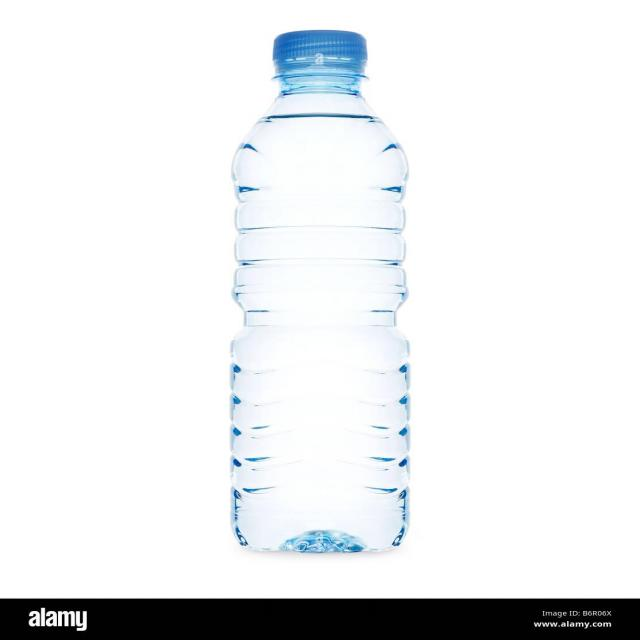bottle: (204, 25, 438, 590)
